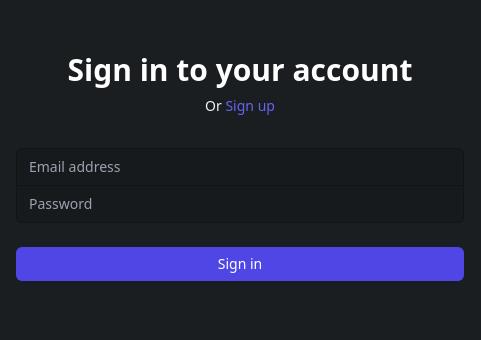
Scenario: Login › shows error when email address is empty
This screenshot has width=481, height=340.
Type "foobar" into the password field with test id "password".
click(240, 204); type("foobar")  # box x1=16 y1=184 x2=464 y2=222
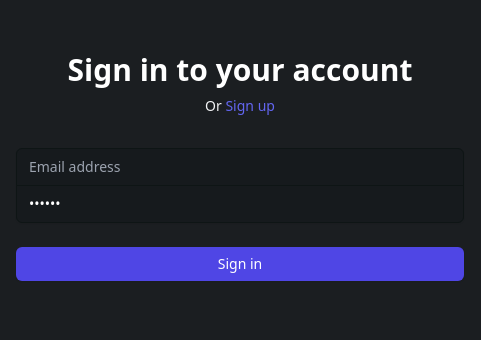
Click the button.
click(240, 264)  # box x1=16 y1=246 x2=464 y2=280
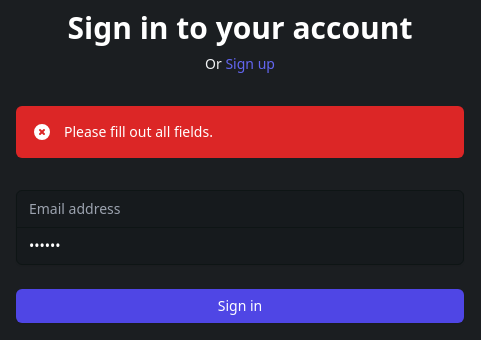
Expected: the heading "Please fill out all fields." is shown, x1=64 y1=122 x2=213 y2=142
